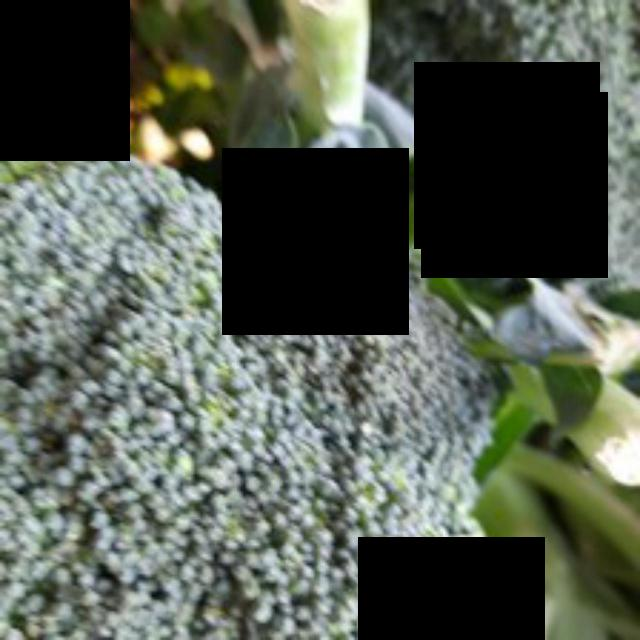broccoli: (0, 128, 502, 637)
